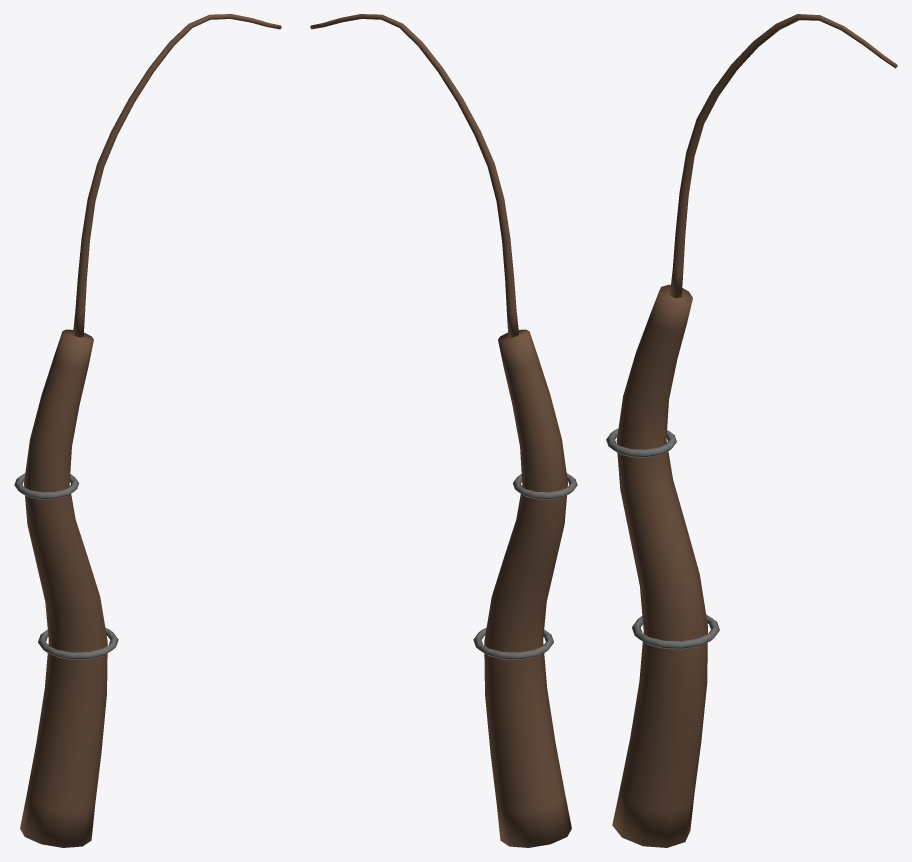
Rendered from long-lash-kobold-tail.glb.
3 views of the same model, side by side, from view 1: azimuth 30°, elevation 25°; view 2: azimuth 150°, elevation 25°; view 3: azimuth 330°, elevation 25° (orthographic). The views are drawn at different scales.
Parts seen in each view (by area): view 1: long-lash-kobold-tail; view 2: long-lash-kobold-tail; view 3: long-lash-kobold-tail.
Boxes of the visible parts, x1,y1,x2,y2 form: long-lash-kobold-tail: (14,14,281,847); long-lash-kobold-tail: (310,14,577,847); long-lash-kobold-tail: (606,14,897,847).
Size of the model in its own units: 0.5844 by 1.68 by 0.1525.
